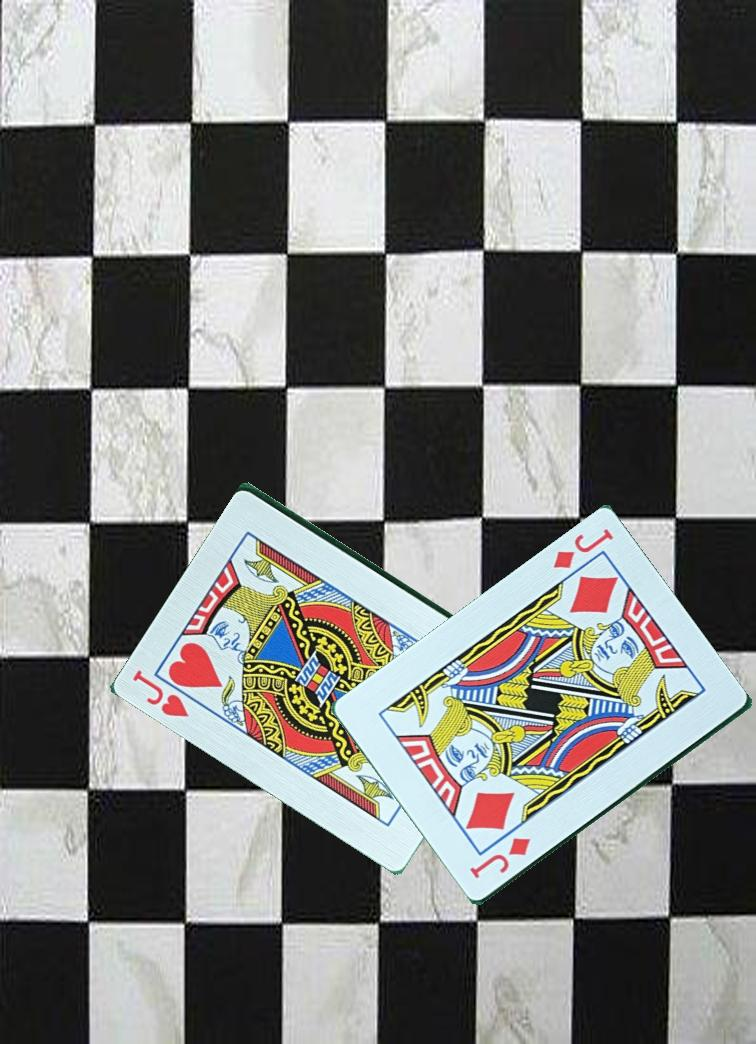jd: (467, 834, 534, 882), (549, 525, 616, 573)
jh: (129, 666, 193, 720)
